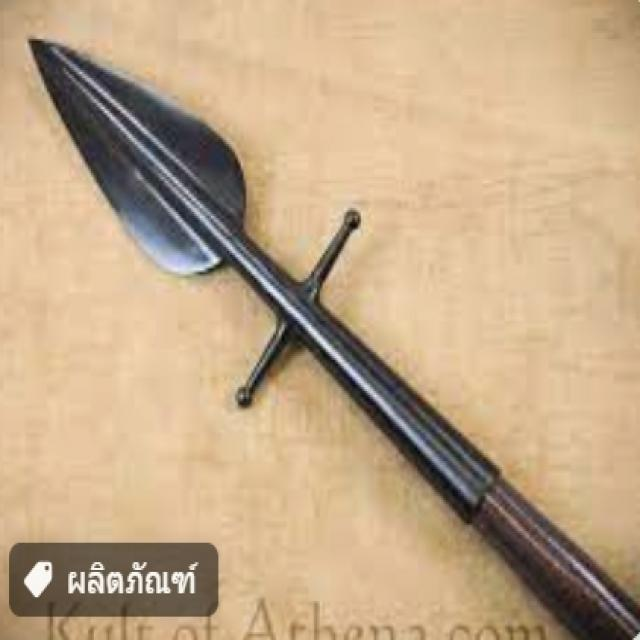spear: (22, 31, 606, 534)
